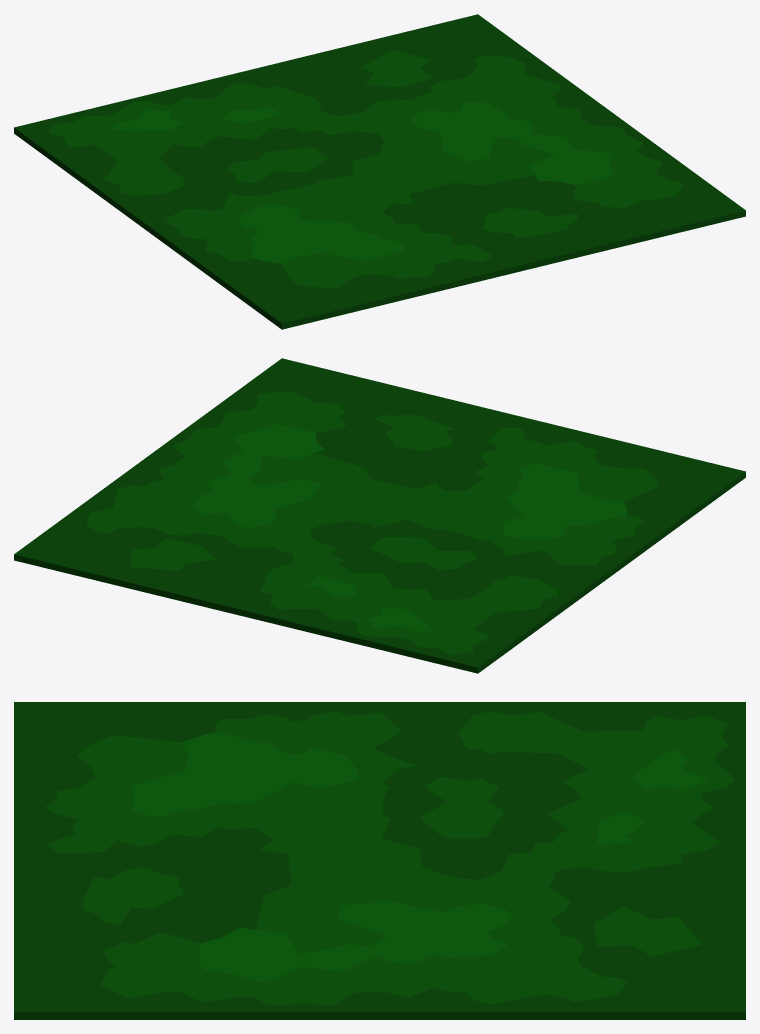
File: TerrainFlat02.fbx
3 renders of one model, top to bottom at view 1: azimuth 30°, elevation 25°; view 2: azimuth 150°, elevation 25°; view 3: azimuth 270°, elevation 25°, orthographic. The views are drawn at different scales.
Visible parts, largest first — view 1: TerrainFlat02; view 2: TerrainFlat02; view 3: TerrainFlat02.
Boxes of the visible parts, left/top/right/bottom form: TerrainFlat02: left=14, top=14, right=745, bottom=329; TerrainFlat02: left=14, top=358, right=745, bottom=673; TerrainFlat02: left=14, top=702, right=745, bottom=1019.
Size of the model in its own units: 20 by 0.2514 by 20.
